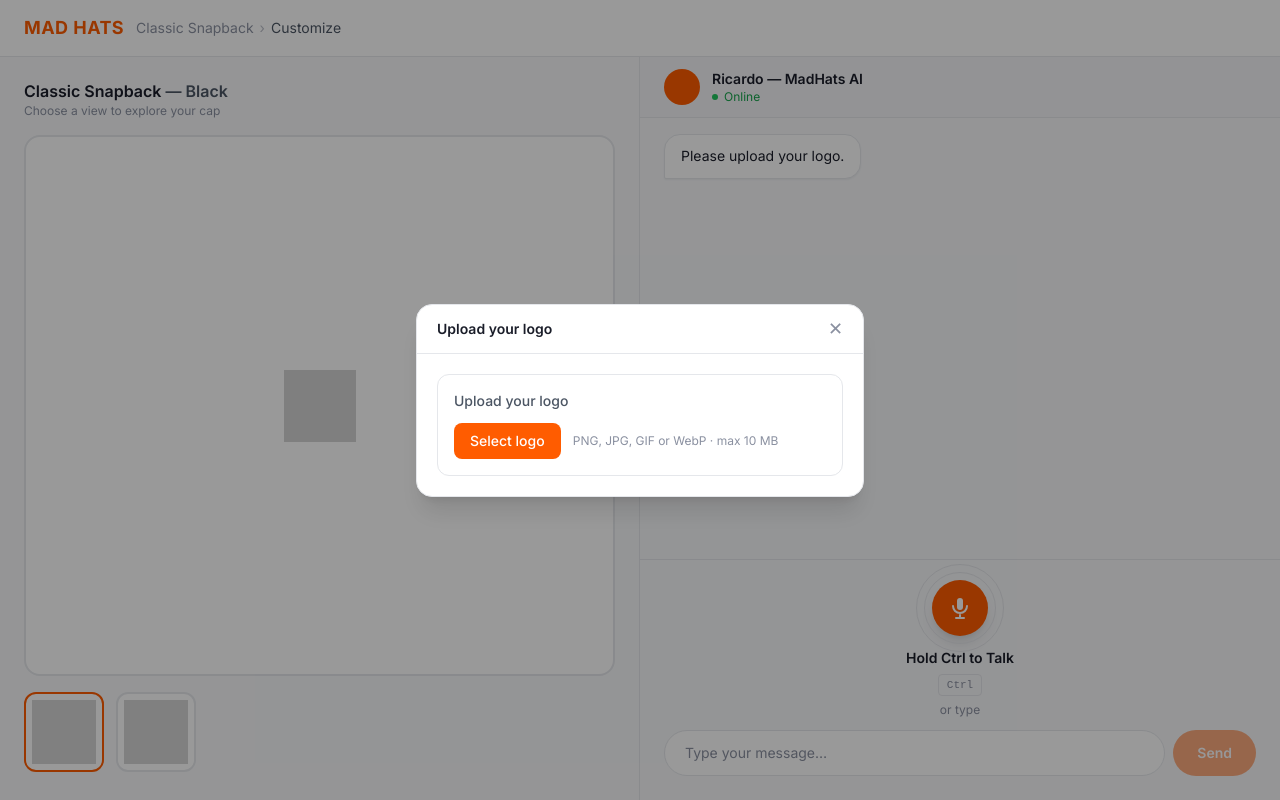
it: ChatPanel special state banners › dismissing the logo modal reveals a reopen button that reopens the uploader
Expected: the text "Please upload your logo." is shown, [664,134,861,179]
Click the button named "close" at coordinates (835, 328), box [828,320,843,338]
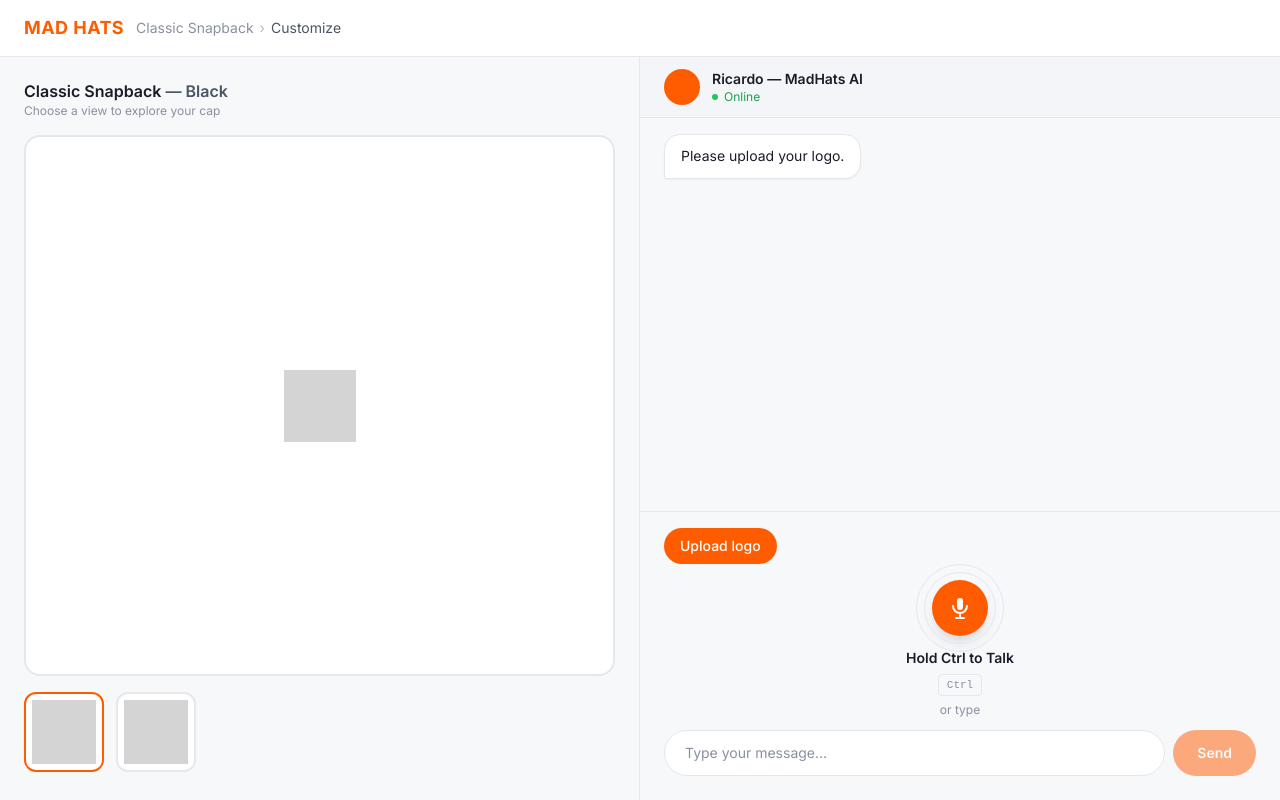
Click the button "Upload logo" at coordinates (720, 546), box [664,528,777,564]
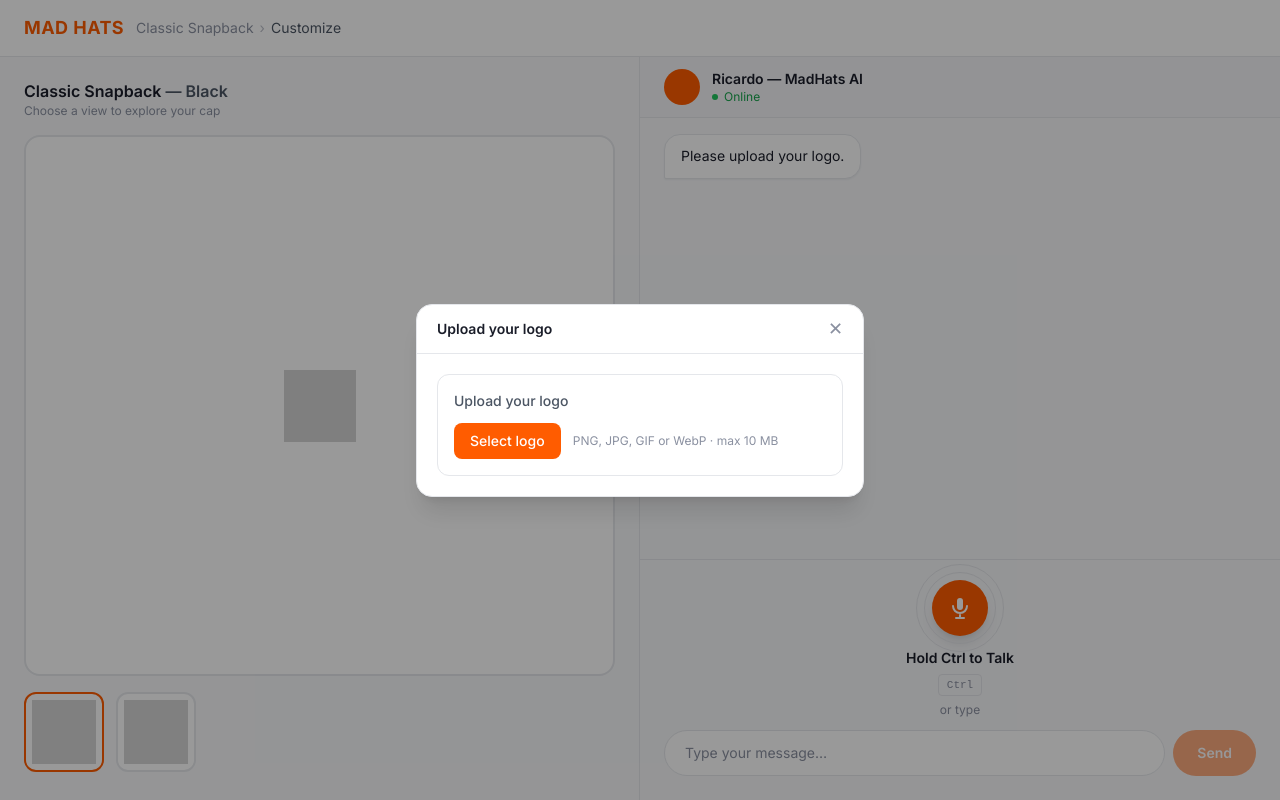
Expected: the dialog "Upload your logo" is shown
